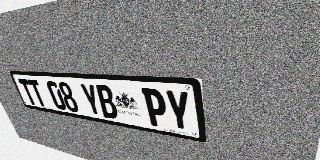0: (45, 81, 67, 111)
8: (57, 82, 80, 113)
B: (94, 84, 120, 120)
P: (141, 88, 169, 128)
T: (27, 79, 48, 107), (18, 79, 38, 105)
Y: (164, 89, 193, 133), (79, 83, 103, 117)
